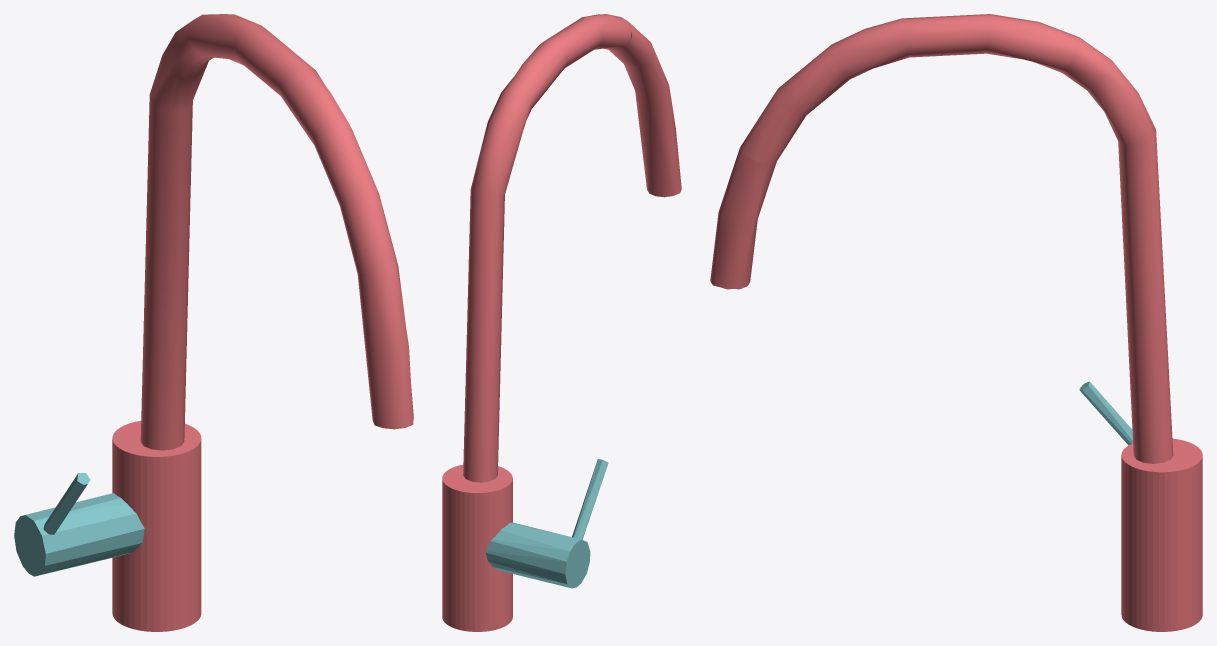
The model's file is Kran (1).fbx.
The picture shows the model from 3 angles, left to right: view 1: azimuth 30°, elevation 25°; view 2: azimuth 150°, elevation 25°; view 3: azimuth 270°, elevation 25°; orthographic projection. The views are drawn at different scales.
Parts seen in each view (by area): view 1: Куб.001; view 2: Куб.001; view 3: Куб.001.
Boxes of the visible parts, <box> form: Куб.001: <box>14,14,413,631</box>; Куб.001: <box>442,14,681,631</box>; Куб.001: <box>710,14,1202,631</box>.
Bounding box in the file's own units: 0.5225 × 1.98 × 1.48.
